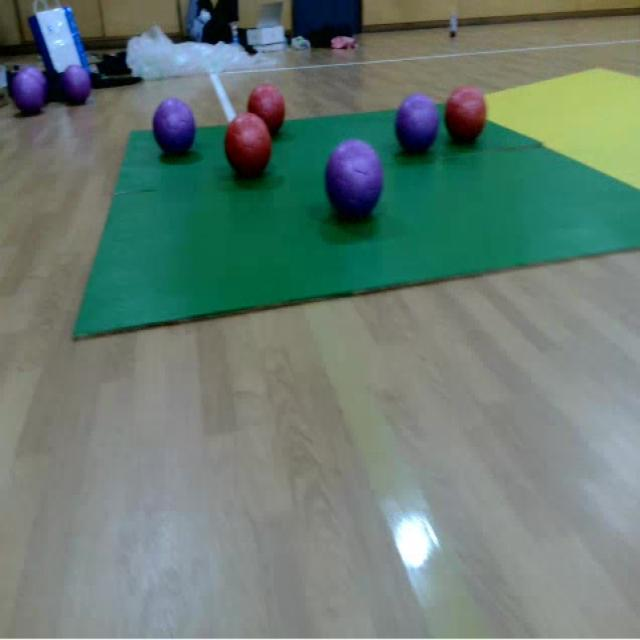purple_ball: (326, 142, 384, 220), (395, 94, 439, 154), (154, 95, 196, 154), (11, 66, 46, 112), (61, 63, 92, 104)
red_ball: (226, 112, 272, 178), (445, 86, 486, 144), (249, 84, 287, 132)
